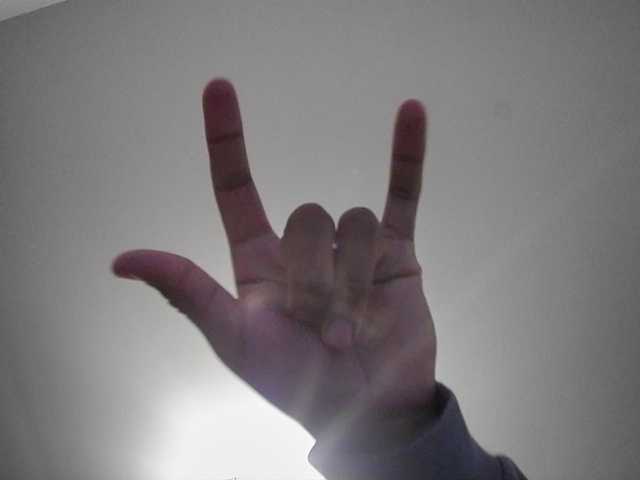ILoveYou: (79, 64, 504, 460)
